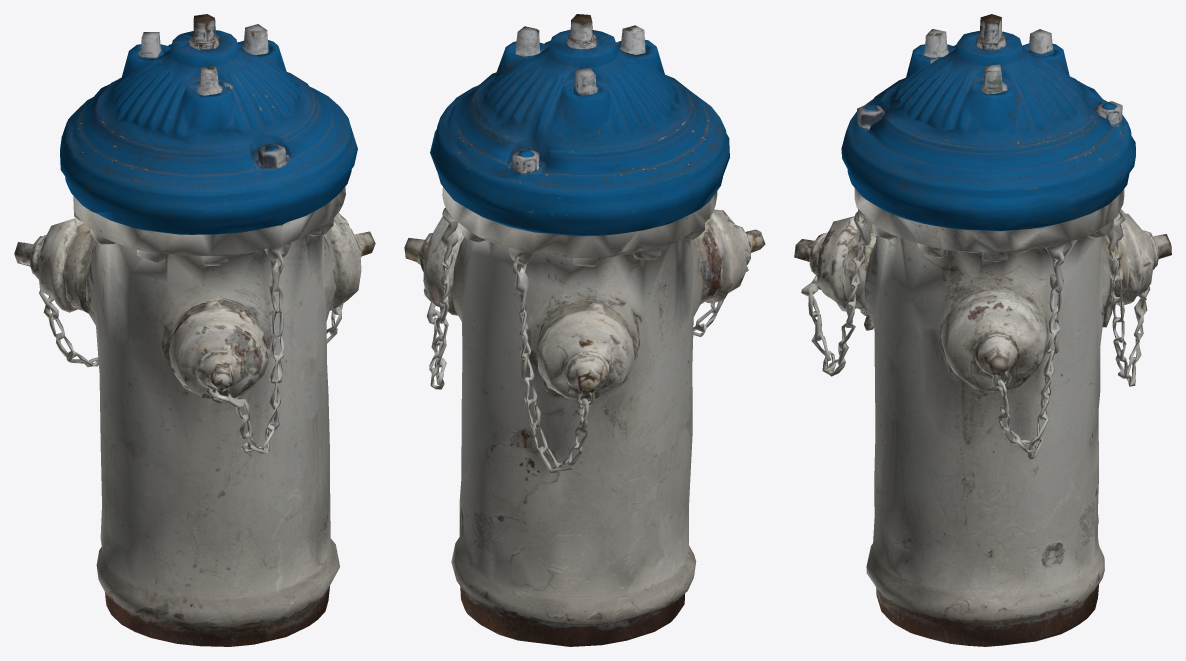
Rendered from Fire_Hydrant.obj.
The picture shows the model from 3 angles, left to right: view 1: azimuth 30°, elevation 25°; view 2: azimuth 150°, elevation 25°; view 3: azimuth 270°, elevation 25°; orthographic projection.
Visible parts, largest first — view 1: uh4ocfafa_LOD0_TIER3_000; view 2: uh4ocfafa_LOD0_TIER3_000; view 3: uh4ocfafa_LOD0_TIER3_000.
Boxes of the visible parts, left/top/right/bottom form: uh4ocfafa_LOD0_TIER3_000: left=14, top=14, right=375, bottom=646; uh4ocfafa_LOD0_TIER3_000: left=404, top=14, right=765, bottom=646; uh4ocfafa_LOD0_TIER3_000: left=794, top=14, right=1171, bottom=646.
Bounding box in the file's own units: 0.4195 × 0.7914 × 0.4692.
Materials: 1 (1 with a texture image).
